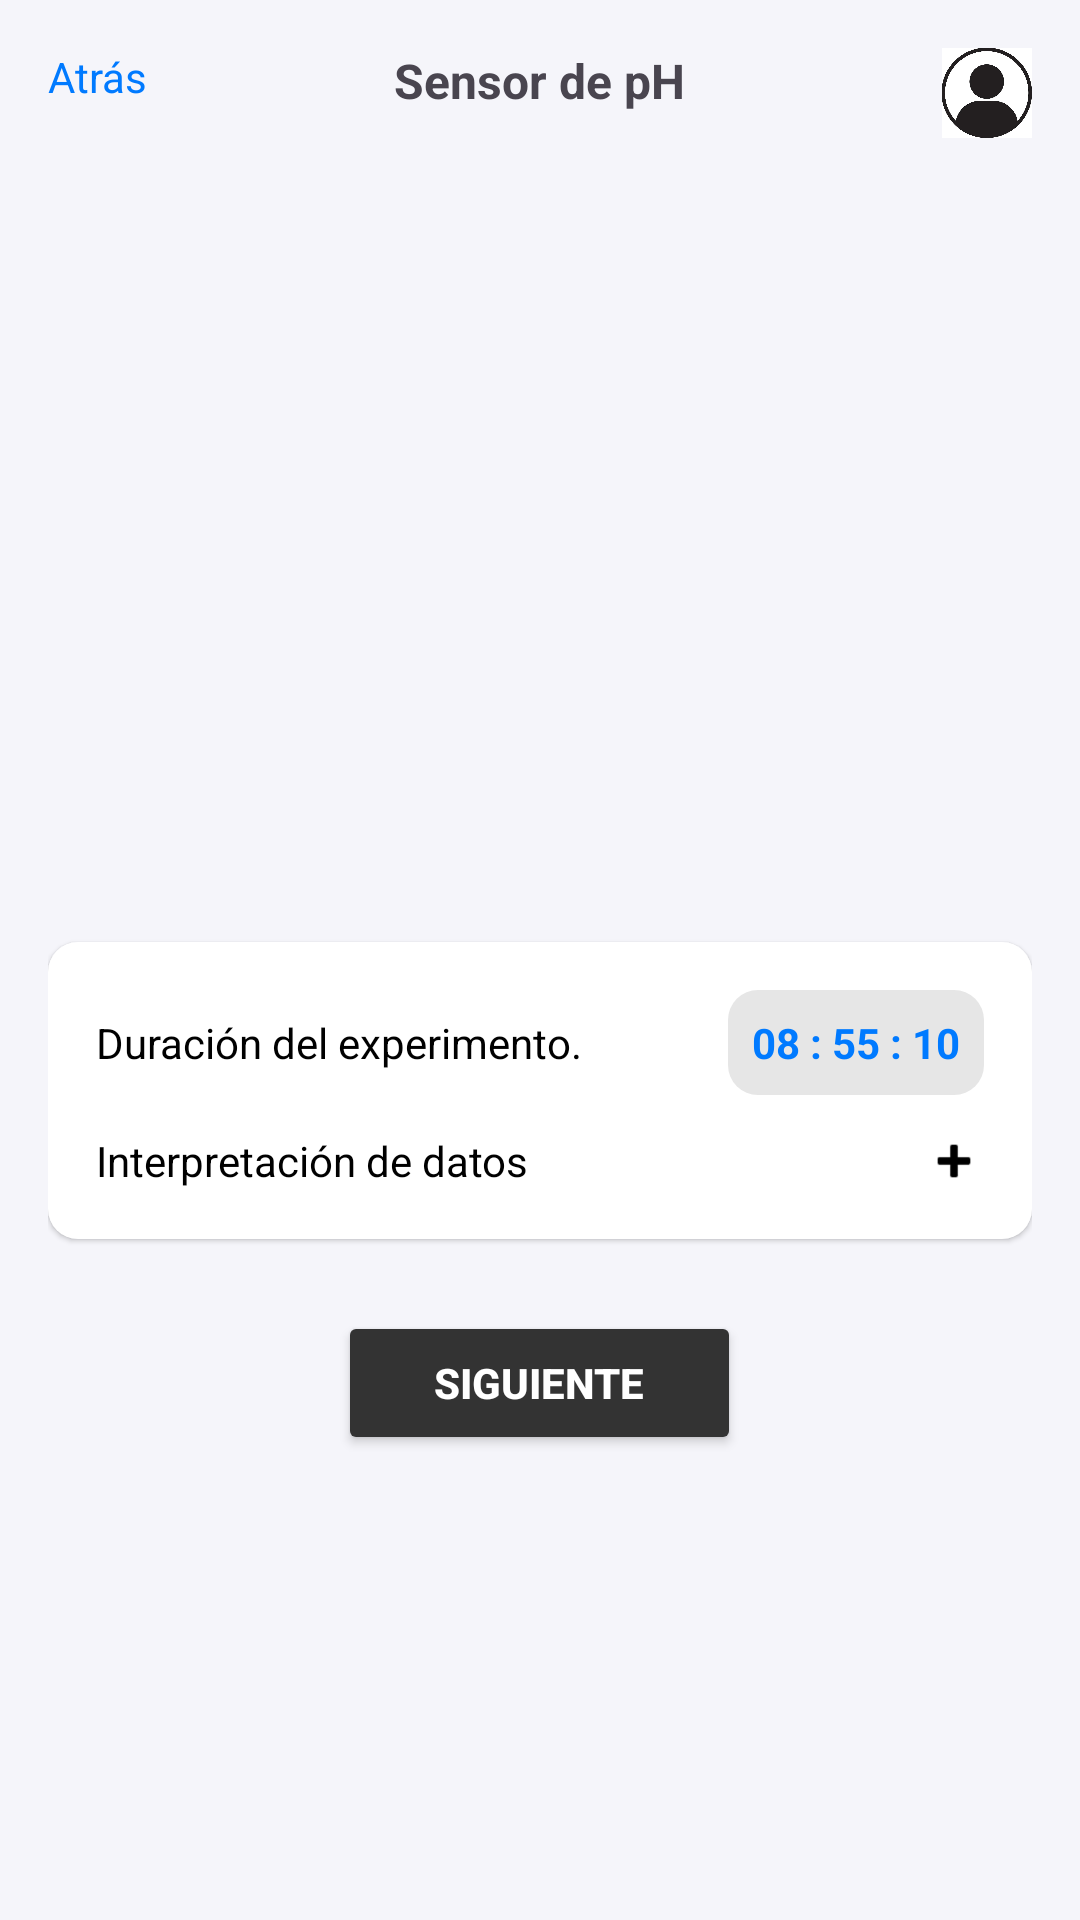

Icons on this 1080x1920 Android screen, each with the point to tap as [x,y]:
add: [954,1161]
usuario: [987,93]
